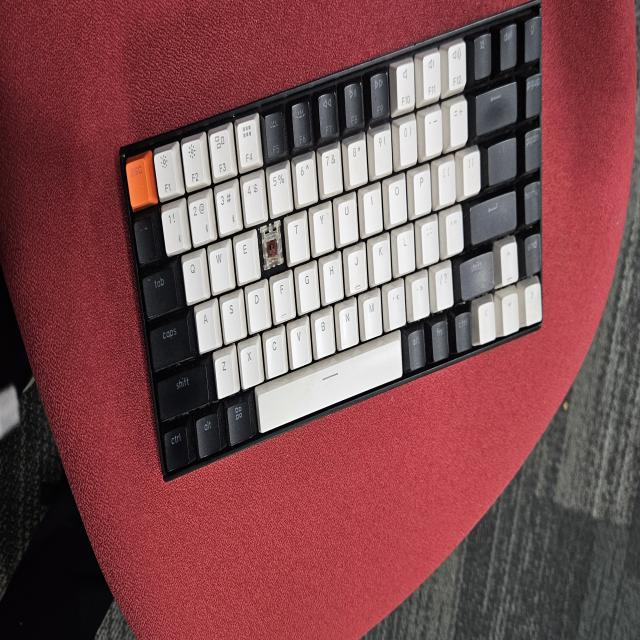C: (258, 225, 284, 275)
